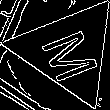M_NE: (34, 20, 103, 82)
